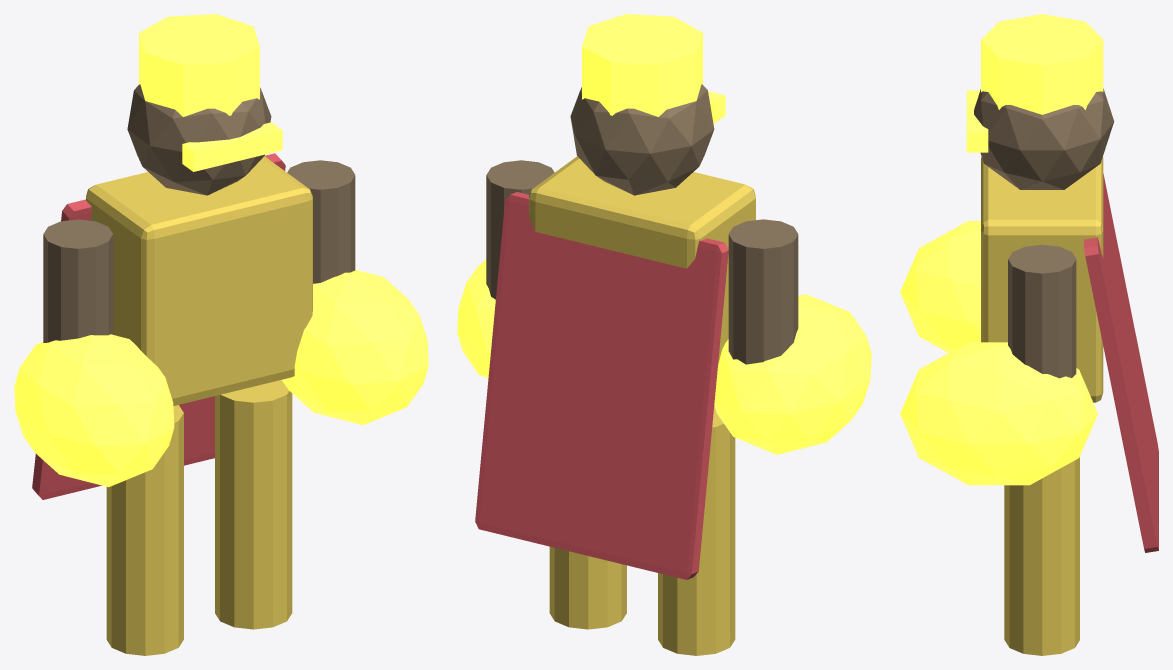
The model's file is golden_brawler_leo.glb.
3 renders of one model, left to right at view 1: azimuth 30°, elevation 25°; view 2: azimuth 150°, elevation 25°; view 3: azimuth 270°, elevation 25°, orthographic. The views are drawn at different scales.
Parts seen in each view (by area): view 1: Cube, Icosphere.002, Cylinder.003, Icosphere.001, Cylinder.004, Cylinder, Icosphere, Cylinder.002, Cylinder.001, Cube.001, Cube.002; view 2: Cube.001, Icosphere.002, Cube, Cylinder.004, Cylinder, Icosphere, Cylinder.002, Cylinder.003, Cylinder.001, Icosphere.001; view 3: Icosphere.001, Cube, Cylinder.003, Cube.001, Cylinder, Icosphere, Cylinder.001, Icosphere.002, Cube.002.
Boxes of the visible parts, bbox=[...] form: Cube: bbox=[86, 156, 312, 405]; Icosphere.002: bbox=[14, 334, 174, 487]; Cylinder.003: bbox=[215, 380, 292, 629]; Icosphere.001: bbox=[282, 270, 428, 424]; Cylinder.004: bbox=[106, 405, 183, 655]; Cylinder: bbox=[139, 14, 259, 116]; Icosphere: bbox=[127, 84, 271, 195]; Cylinder.002: bbox=[43, 219, 113, 342]; Cylinder.001: bbox=[287, 160, 355, 283]; Cube.001: bbox=[32, 153, 285, 499]; Cube.002: bbox=[182, 122, 282, 171]; Cube.001: bbox=[475, 192, 728, 579]; Icosphere.002: bbox=[714, 294, 871, 454]; Cube: bbox=[529, 156, 755, 364]; Cylinder.004: bbox=[658, 405, 735, 655]; Cylinder: bbox=[582, 14, 702, 116]; Icosphere: bbox=[570, 84, 714, 195]; Cylinder.002: bbox=[728, 219, 798, 364]; Cylinder.003: bbox=[549, 546, 626, 629]; Cylinder.001: bbox=[486, 160, 554, 299]; Icosphere.001: bbox=[457, 259, 495, 378]; Icosphere.001: bbox=[900, 342, 1097, 485]; Cube: bbox=[981, 157, 1103, 402]; Cylinder.003: bbox=[1004, 457, 1079, 655]; Cube.001: bbox=[1084, 173, 1158, 552]; Cylinder: bbox=[981, 14, 1103, 114]; Icosphere: bbox=[974, 88, 1114, 189]; Cylinder.001: bbox=[1008, 244, 1076, 378]; Icosphere.002: bbox=[900, 221, 980, 352]; Cube.002: bbox=[966, 90, 988, 152].
Bounding box in the file's own units: 1.2 × 1.76 × 0.7189.
